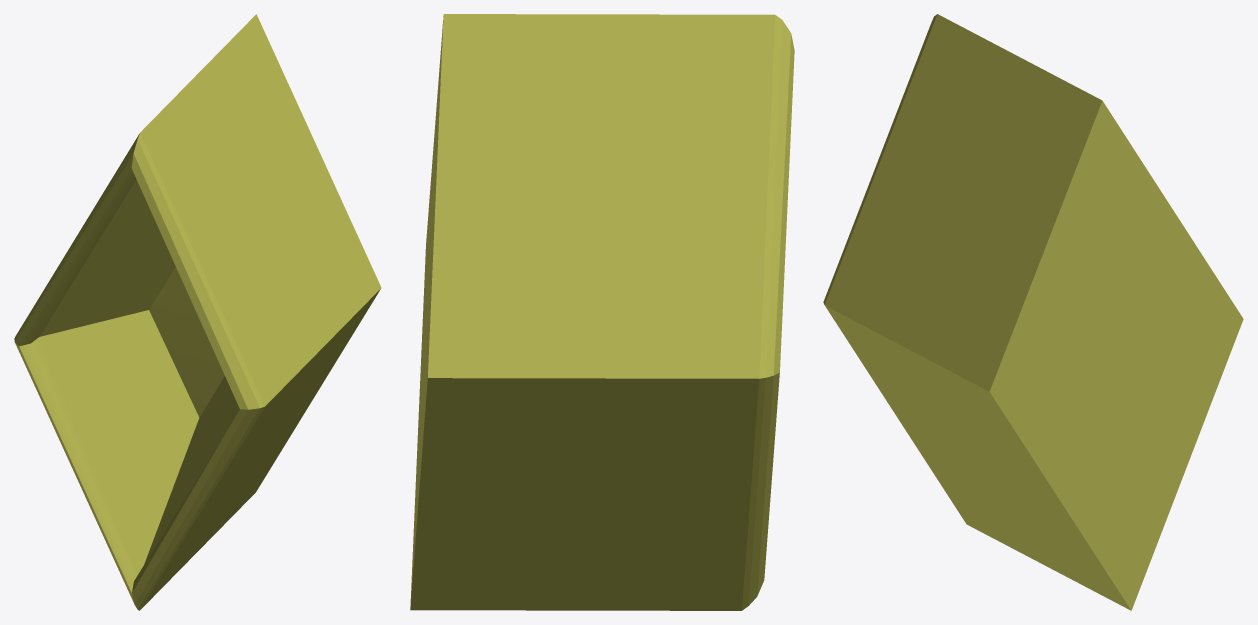
The model's file is BL4_8shapes_Kite_Classic_Metal.001 3.glb.
3 renders of one model, left to right at view 1: azimuth 30°, elevation 25°; view 2: azimuth 150°, elevation 25°; view 3: azimuth 270°, elevation 25°, orthographic. The views are drawn at different scales.
Parts seen in each view (by area): view 1: BL4_8shapes_Kite_Classic_Metal.001; view 2: BL4_8shapes_Kite_Classic_Metal.001; view 3: BL4_8shapes_Kite_Classic_Metal.001.
Boxes of the visible parts, x1,y1,x2,y2 form: BL4_8shapes_Kite_Classic_Metal.001: [14, 14, 381, 610]; BL4_8shapes_Kite_Classic_Metal.001: [410, 14, 794, 610]; BL4_8shapes_Kite_Classic_Metal.001: [823, 14, 1243, 610].
Size of the model in its own units: 0.4551 by 0.665 by 0.4915.
